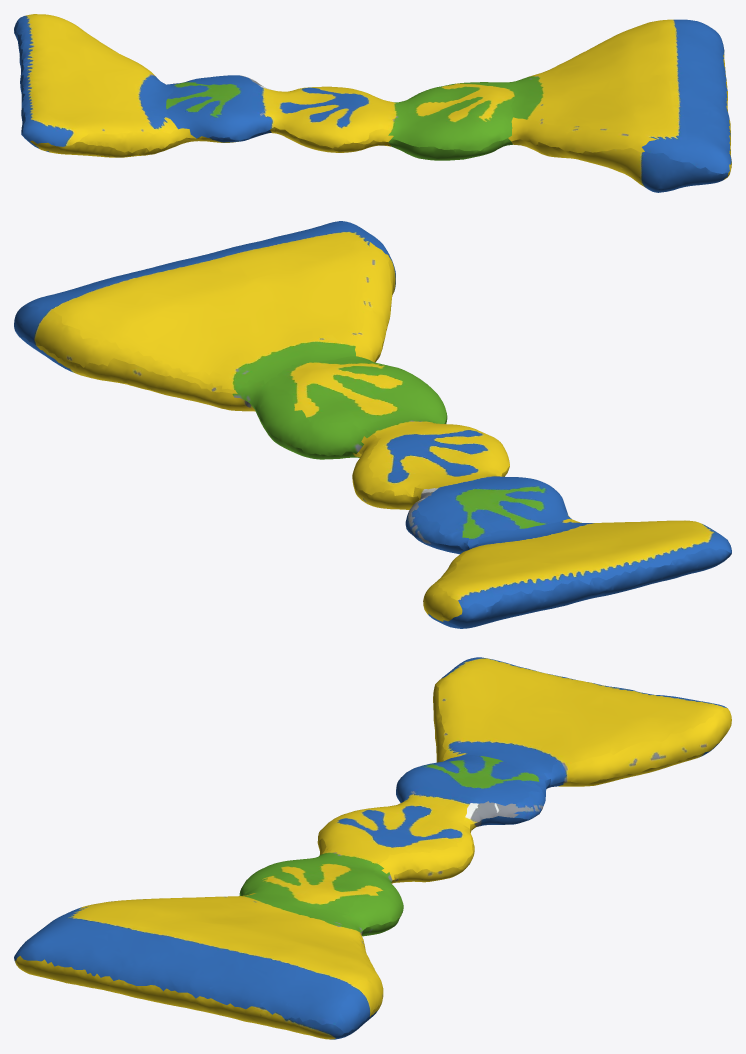
Rendered from wigglebridge.glb.
3 renders of one model, top to bottom at view 1: azimuth 30°, elevation 25°; view 2: azimuth 150°, elevation 25°; view 3: azimuth 270°, elevation 25°, orthographic. The views are drawn at different scales.
Visible parts, largest first — view 1: geometry_0; view 2: geometry_0; view 3: geometry_0.
Boxes of the visible parts, x1,y1,x2,y2 form: geometry_0: [14, 14, 731, 192]; geometry_0: [14, 221, 731, 628]; geometry_0: [14, 657, 731, 1039].
Bounding box in the file's own units: 0.9856 × 0.0877 × 0.8426.
1 material, 1 textured.
